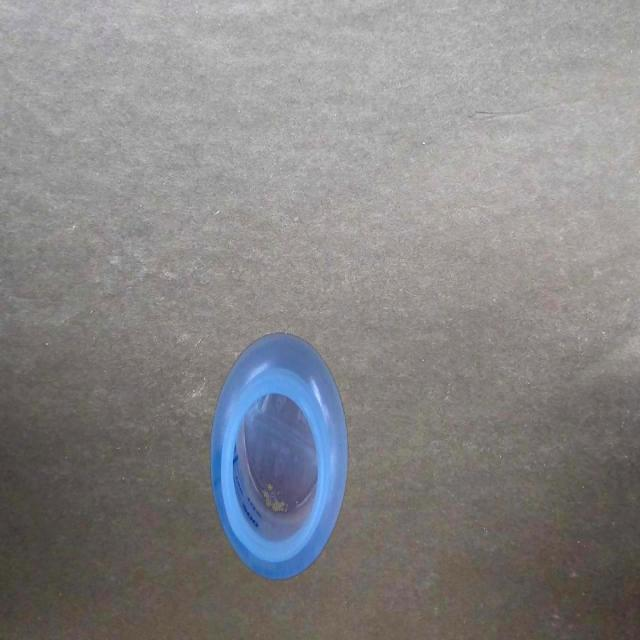bottle: (209, 328, 348, 582)
